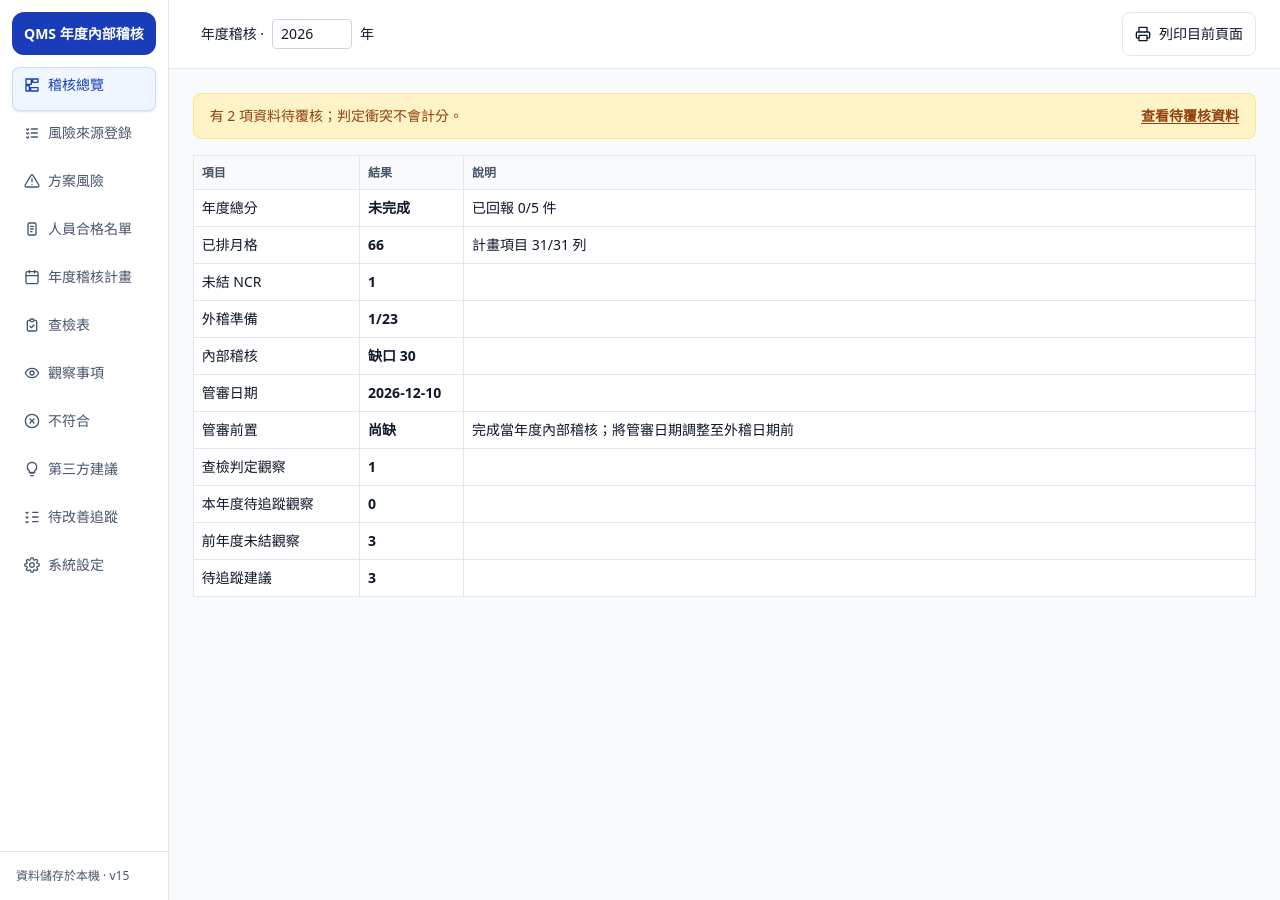
Scenario: App tab smoke › keeps dashboard as a single-level overview and opens observations from the sidebar
expect the column heading "操作" is not shown: met
expect the column heading "項目" is shown: met, box [193, 156, 360, 190]
Click the button "觀察事項".
click(84, 377)  # box [12, 355, 156, 399]
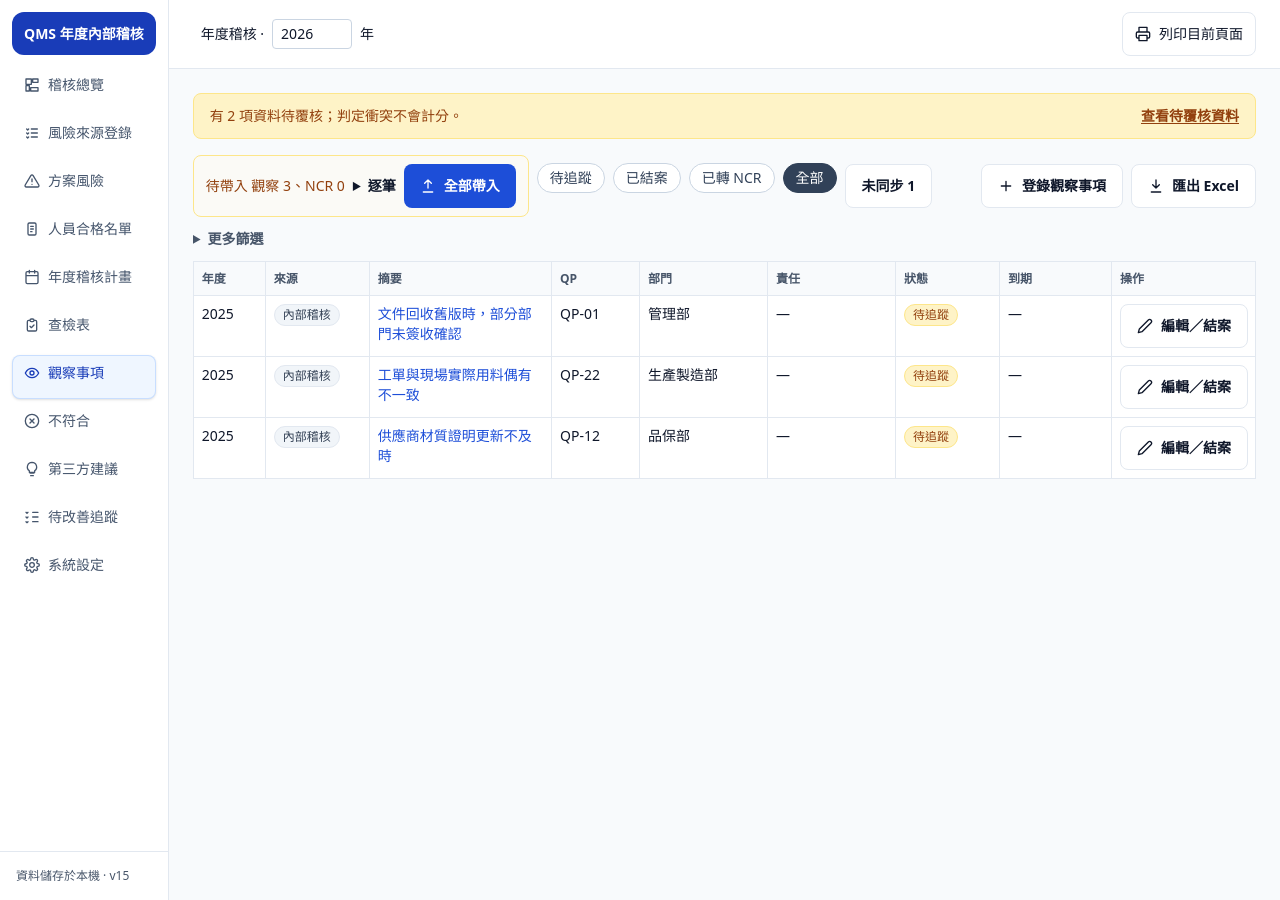
expect the element named "觀察事項紀錄一覽" is shown: met, box [193, 261, 1256, 479]
